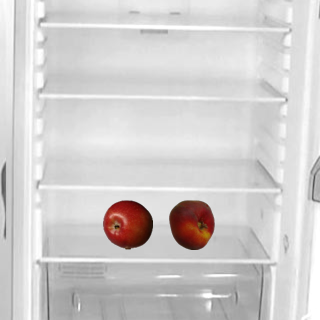Apple Braeburn: (102, 199, 152, 249)
Nectarine Flat: (166, 199, 216, 249)
